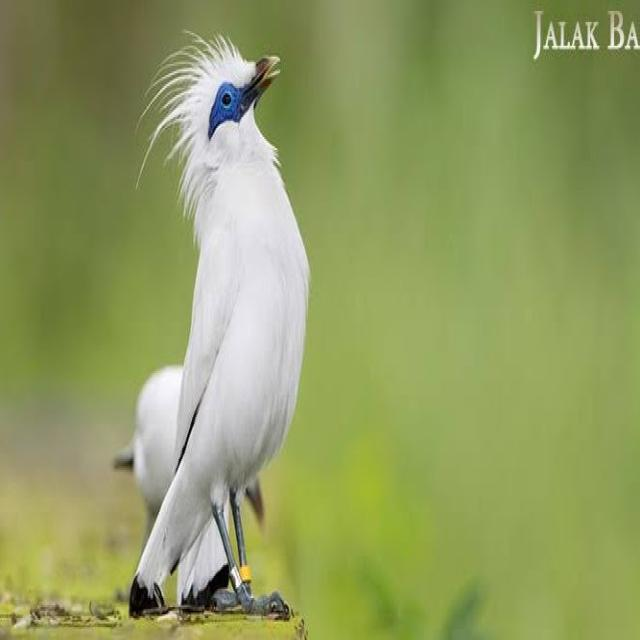Jalak Bali: (124, 24, 332, 640)
